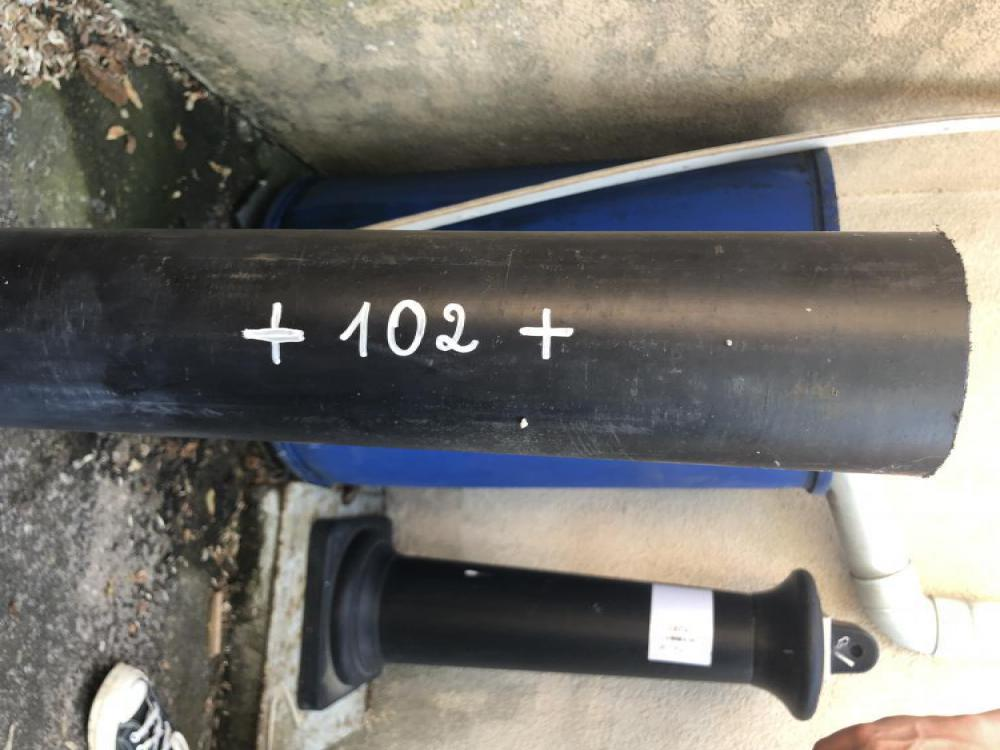+: (243, 302, 305, 365), (520, 308, 574, 359)
0: (387, 300, 427, 356)
1: (339, 302, 372, 357)
2: (435, 303, 480, 353)
